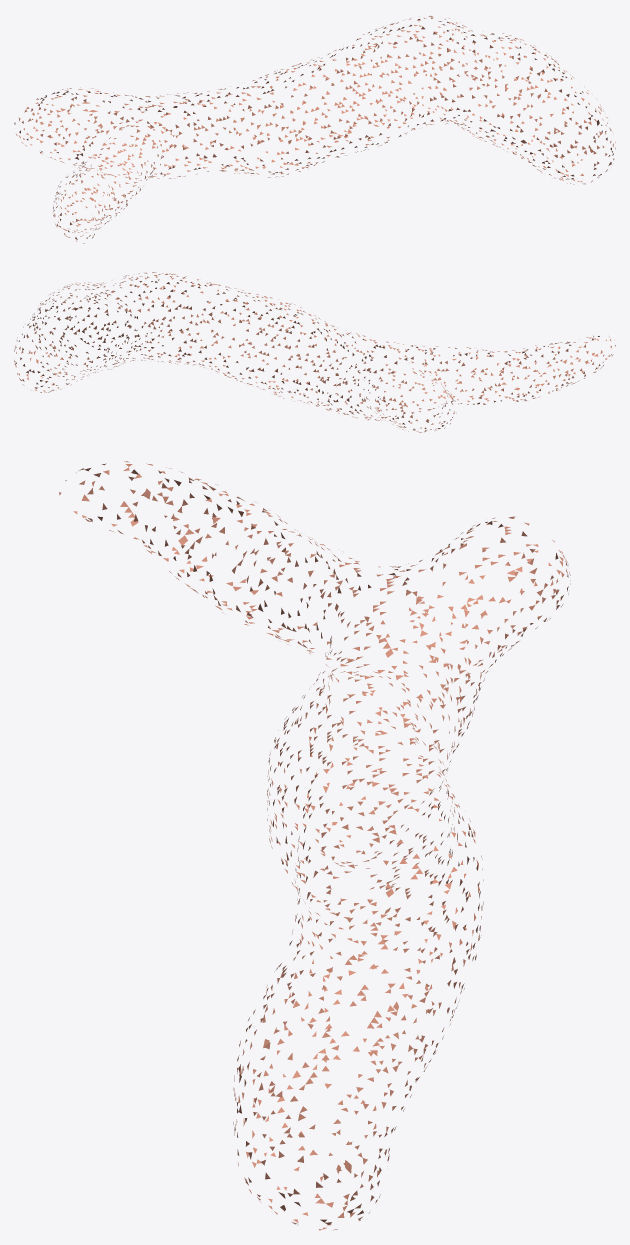
File: morph_003.glb
3 views of the same model, one above another, from view 1: azimuth 30°, elevation 25°; view 2: azimuth 150°, elevation 25°; view 3: azimuth 270°, elevation 25° (orthographic). The views are drawn at different scales.
Size of the model in its own units: 117 by 33.05 by 48.28.
